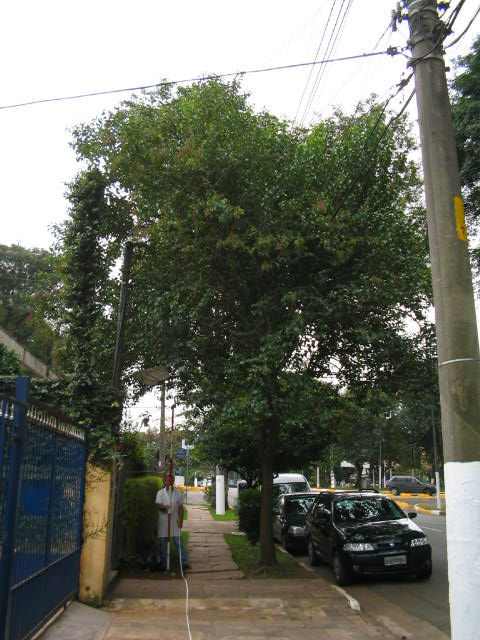crown: (74, 68, 425, 421)
stem: (242, 447, 295, 564)
stick: (155, 408, 185, 575)
tree: (72, 67, 428, 568)
